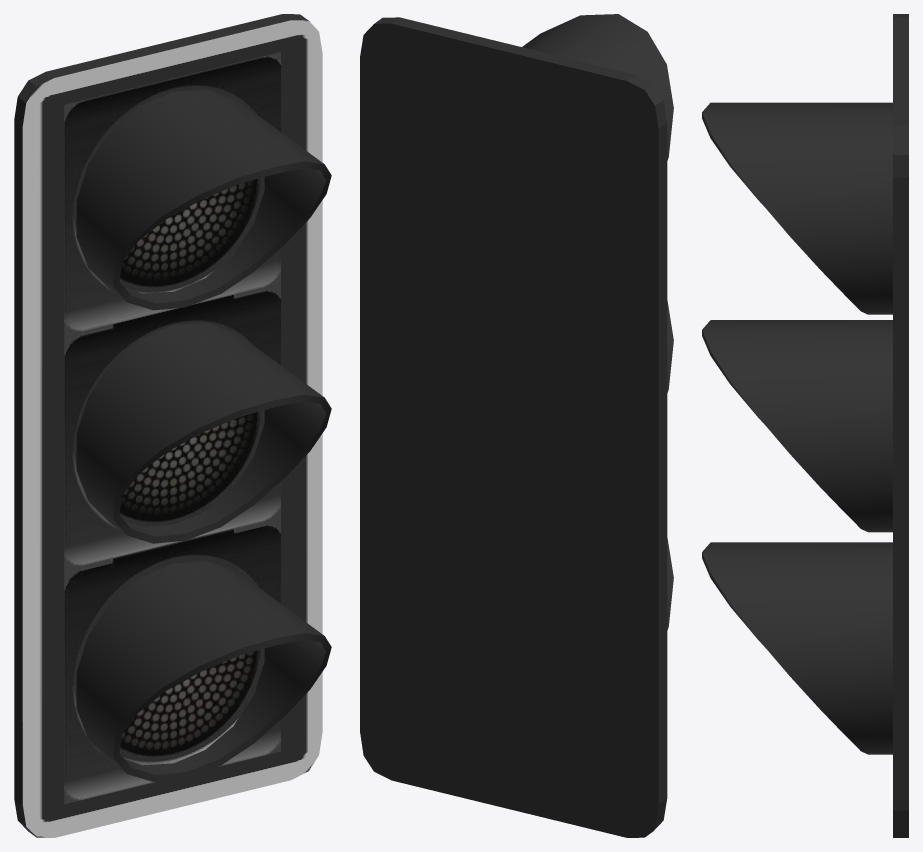
The model's file is signlight3.gltf.
3 views of the same model, side by side, from view 1: azimuth 30°, elevation 25°; view 2: azimuth 150°, elevation 25°; view 3: azimuth 270°, elevation 25° (orthographic). The views are drawn at different scales.
Visible parts, largest first — view 1: Box447, Tube199, Tube201, Tube200; view 2: Box447, Tube200; view 3: Tube200, Tube201, Tube199, Box447.
Boxes of the visible parts, box(x1,y1,x2,y2) form: Box447: box(14, 14, 322, 837); Tube199: box(76, 323, 331, 543); Tube201: box(76, 561, 331, 781); Tube200: box(76, 89, 331, 310); Box447: box(360, 17, 667, 837); Tube200: box(522, 14, 673, 160); Tube200: box(702, 102, 892, 314); Tube201: box(702, 542, 892, 754); Tube199: box(702, 320, 892, 532); Box447: box(893, 14, 908, 837).
Size of the model in its own units: 0.6244 by 1.51 by 0.4.
Materials: 2 (2 with a texture image).
